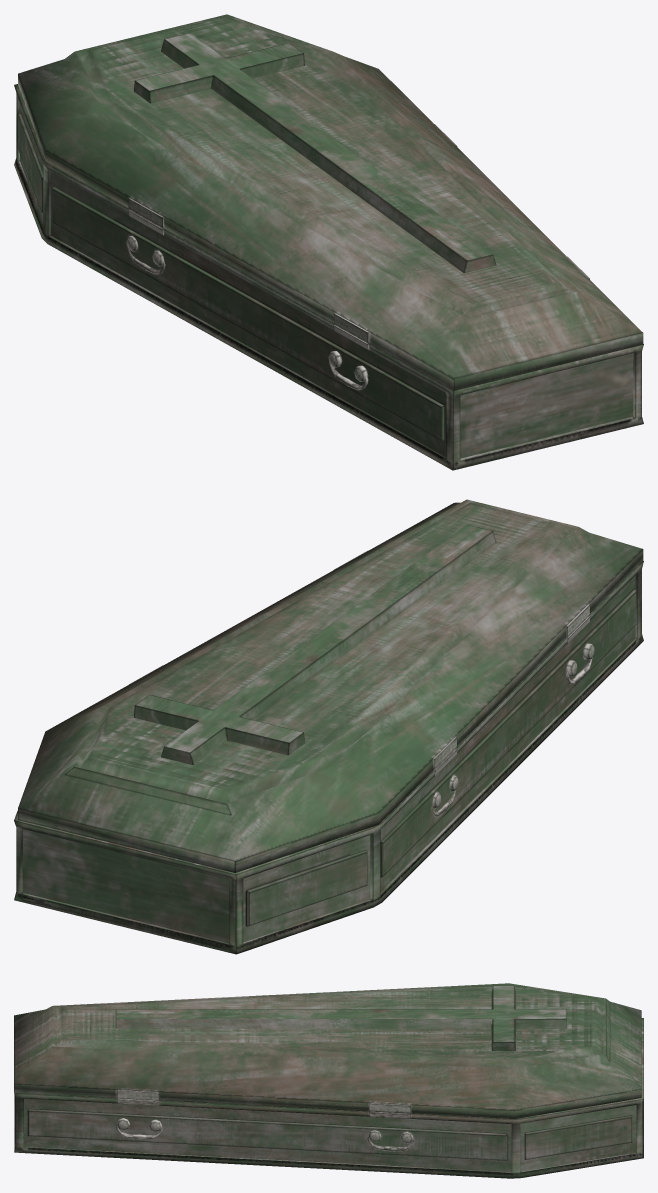
The model's file is Sketchfab_2021_03_20_20_48_36.fbx.
3 renders of one model, top to bottom at view 1: azimuth 30°, elevation 25°; view 2: azimuth 150°, elevation 25°; view 3: azimuth 270°, elevation 25°, orthographic. The views are drawn at different scales.
Parts seen in each view (by area): view 1: coffin_top, coffin_bottom; view 2: coffin_top, coffin_bottom; view 3: coffin_top, coffin_bottom.
Part boxes in pixels (x1,y1,x2,y2): coffin_top: (18,14,643,390); coffin_bottom: (14,84,643,470); coffin_top: (18,499,643,872); coffin_bottom: (14,561,643,954); coffin_top: (14,983,641,1118); coffin_bottom: (14,1018,643,1178).
Size of the model in its own units: 308 by 123 by 675.
